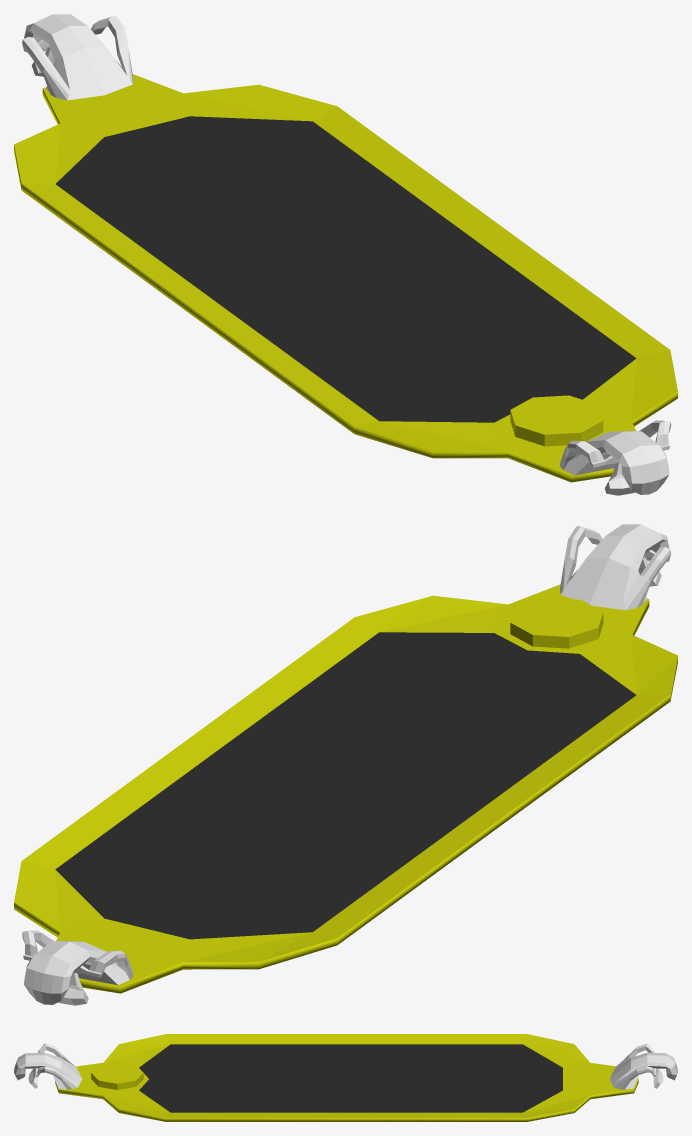
File: board_type_3.fbx
3 views of the same model, one above another, from view 1: azimuth 30°, elevation 25°; view 2: azimuth 150°, elevation 25°; view 3: azimuth 270°, elevation 25° (orthographic). The views are drawn at different scales.
Parts seen in each view (by area): view 1: Board._Type_3, Axle_Rear_Type_3_Part_2, Axle_Front_Type_3_Part_2; view 2: Board._Type_3, Axle_Front_Type_3_Part_2, Axle_Rear_Type_3_Part_2; view 3: Board._Type_3, Axle_Rear_Type_3_Part_2, Axle_Front_Type_3_Part_2.
Part boxes in pixels (left/top/right/bottom): Board._Type_3: left=14, top=74, right=677, bottom=482; Axle_Rear_Type_3_Part_2: left=22, top=14, right=133, bottom=100; Axle_Front_Type_3_Part_2: left=560, top=420, right=671, bottom=495; Board._Type_3: left=14, top=584, right=677, bottom=993; Axle_Front_Type_3_Part_2: left=560, top=524, right=671, bottom=610; Axle_Rear_Type_3_Part_2: left=22, top=930, right=133, bottom=1005; Board._Type_3: left=55, top=1034, right=638, bottom=1121; Axle_Rear_Type_3_Part_2: left=609, top=1043, right=677, bottom=1089; Axle_Front_Type_3_Part_2: left=14, top=1043, right=82, bottom=1089.
Bounding box in the file's own units: 167 × 27.59 × 559.
